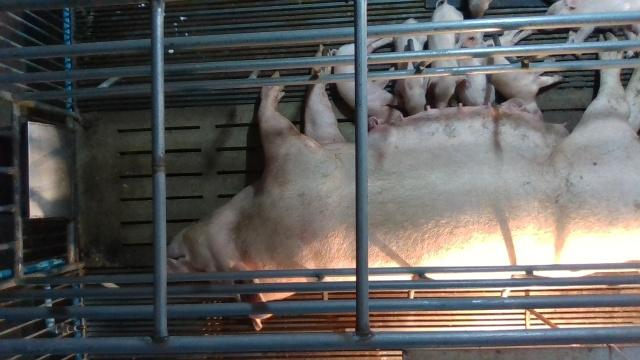piglet: (479, 32, 565, 119), (333, 38, 402, 121), (426, 0, 466, 107), (547, 1, 640, 43), (393, 18, 428, 117)
sow-sleep-lactate: (166, 32, 640, 330)
